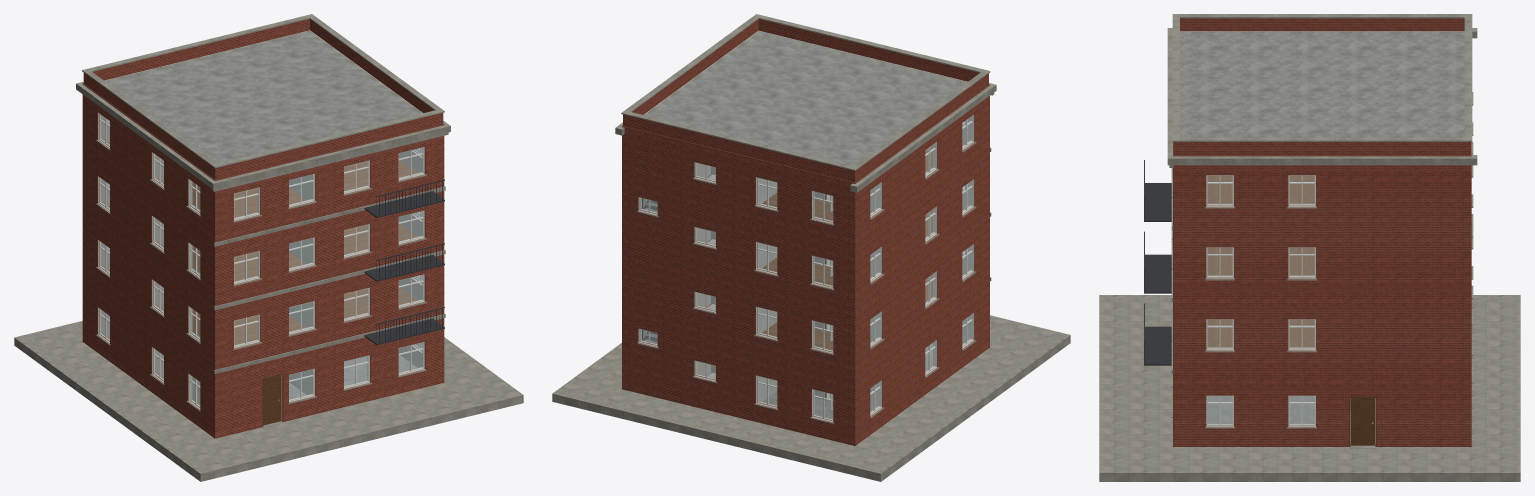
The model's file is b_chicago_walkup.gltf.
3 renders of one model, left to right at view 1: azimuth 30°, elevation 25°; view 2: azimuth 150°, elevation 25°; view 3: azimuth 270°, elevation 25°, orthographic. The views are drawn at different scales.
Parts seen in each view (by area): view 1: S_chicago_walkup, D_chicago_walkup_F1_S3_Door0; view 2: S_chicago_walkup; view 3: S_chicago_walkup, D_chicago_walkup_F1_E2_Door0.
Part boxes in pixels (x1=…): S_chicago_walkup: x1=14, y1=14, x2=523, y2=481; D_chicago_walkup_F1_S3_Door0: x1=263, y1=375, x2=280, y2=425; S_chicago_walkup: x1=552, y1=14, x2=1070, y2=481; S_chicago_walkup: x1=1099, y1=14, x2=1520, y2=481; D_chicago_walkup_F1_E2_Door0: x1=1351, y1=398, x2=1374, y2=445.
Size of the model in its own units: 17 by 14.06 by 17.
16 materials, 10 textured.
